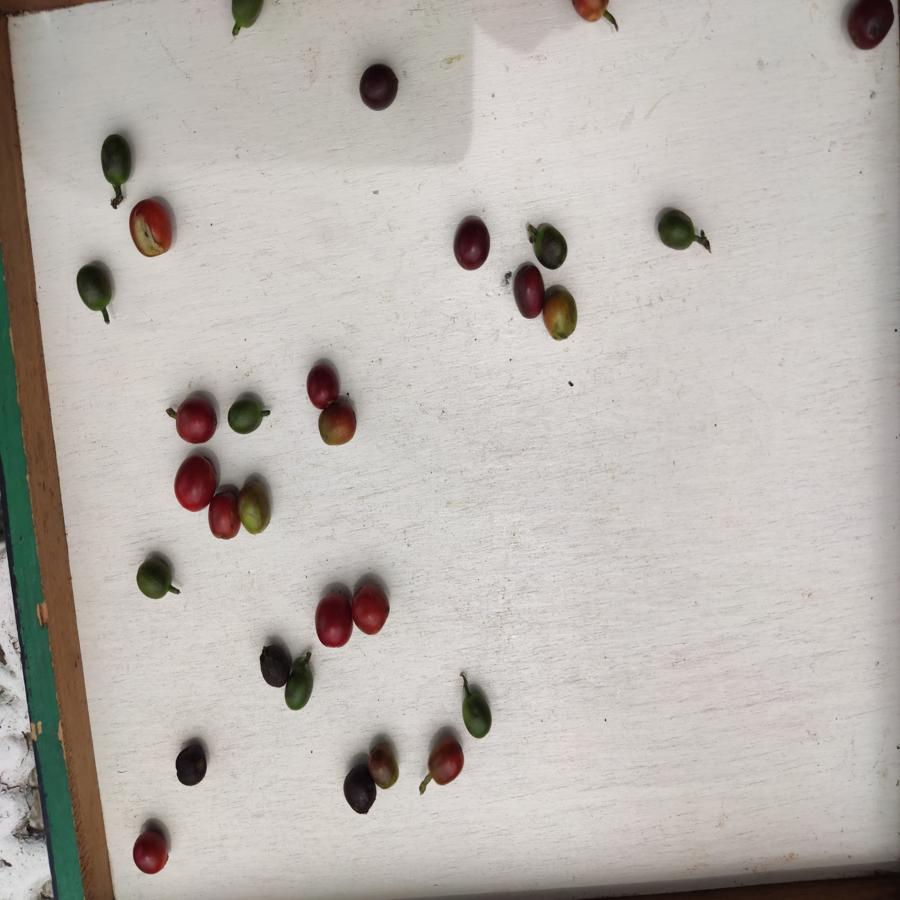Inmaduro: (532, 220, 569, 273), (654, 210, 699, 252), (135, 558, 175, 601), (76, 264, 111, 313), (226, 394, 264, 438), (99, 134, 131, 186), (459, 691, 491, 739), (290, 656, 314, 714), (228, 1, 263, 29)
Maduro: (127, 194, 172, 259), (314, 587, 355, 648), (174, 452, 215, 512), (349, 581, 390, 634), (173, 395, 217, 444), (206, 485, 239, 545), (130, 827, 170, 876), (427, 736, 463, 785)
Pinton: (543, 285, 580, 342), (238, 480, 272, 533), (316, 405, 357, 445), (372, 745, 401, 790)
Sobremaduro: (845, 1, 894, 53), (450, 216, 490, 271), (357, 63, 398, 110), (510, 264, 543, 320), (341, 768, 376, 813), (305, 362, 338, 408), (257, 643, 289, 687), (177, 741, 206, 786)
